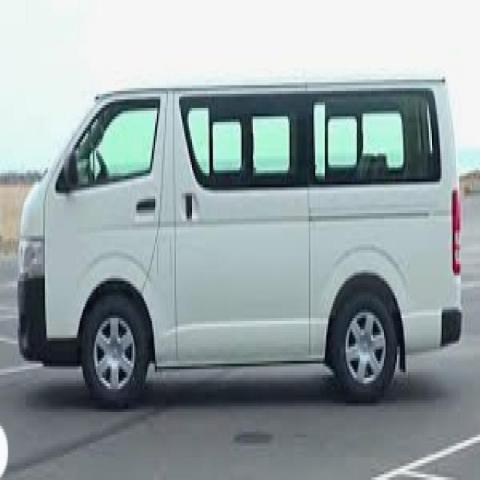van: (15, 70, 466, 410)
